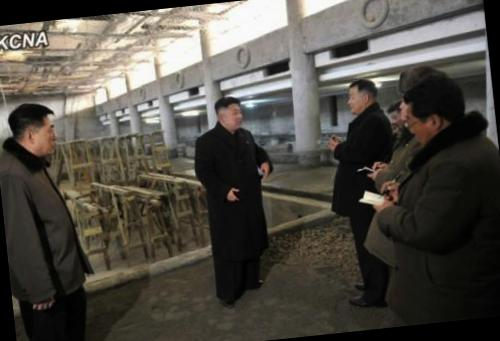no_helmet: (394, 64, 472, 149), (4, 96, 66, 166), (211, 92, 249, 134), (345, 74, 382, 117)
